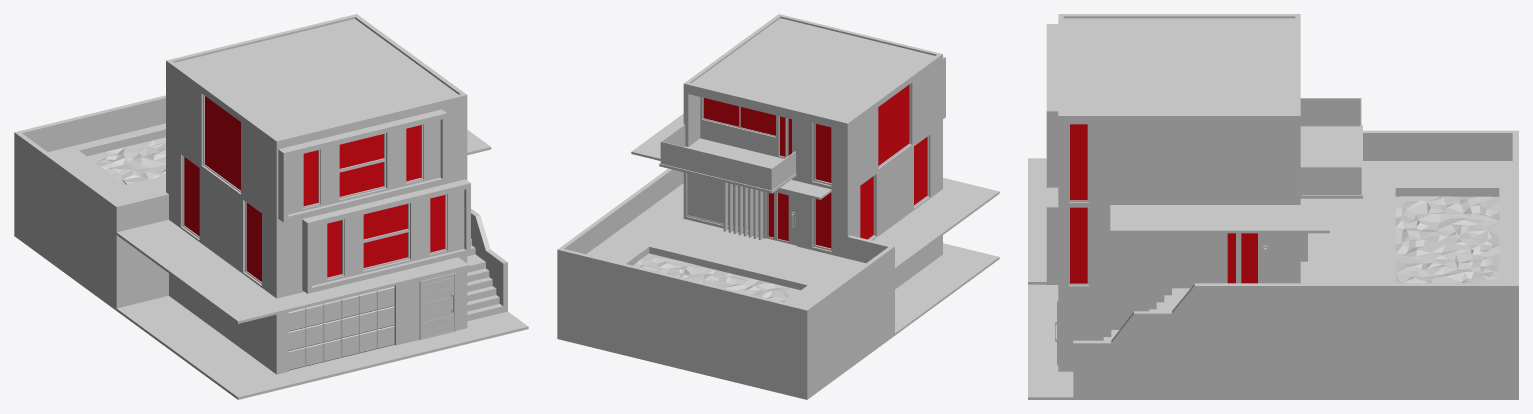
File: SM_cottage_03.glb
3 renders of one model, left to right at view 1: azimuth 30°, elevation 25°; view 2: azimuth 150°, elevation 25°; view 3: azimuth 270°, elevation 25°, orthographic. The views are drawn at different scales.
Visible parts, largest first — view 1: cottage_03; view 2: cottage_03; view 3: cottage_03.
Boxes of the visible parts, bbox=[...] form: cottage_03: bbox=[14, 14, 528, 399]; cottage_03: bbox=[557, 14, 999, 399]; cottage_03: bbox=[1028, 14, 1518, 399].
Size of the model in its own units: 12 by 9.3 by 16.
